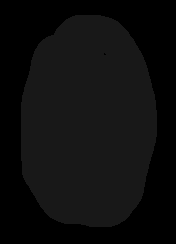fp: (6, 8, 161, 238)
